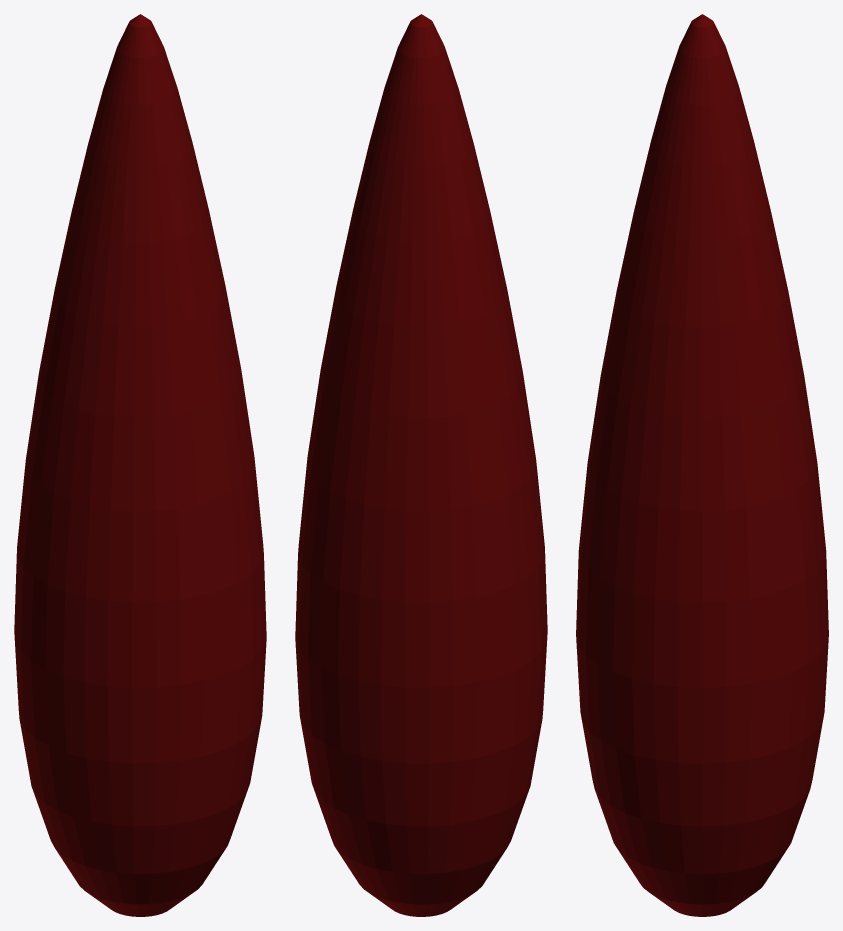
The model's file is limb.glb.
3 renders of one model, left to right at view 1: azimuth 30°, elevation 25°; view 2: azimuth 150°, elevation 25°; view 3: azimuth 270°, elevation 25°, orthographic.
Parts seen in each view (by area): view 1: Sphere.001; view 2: Sphere.001; view 3: Sphere.001.
Part boxes in pixels (x1,y1,x2,y2): Sphere.001: [14, 14, 266, 916]; Sphere.001: [295, 14, 547, 916]; Sphere.001: [576, 14, 828, 916].
Bounding box in the file's own units: 0.3788 × 1.48 × 0.3788.
